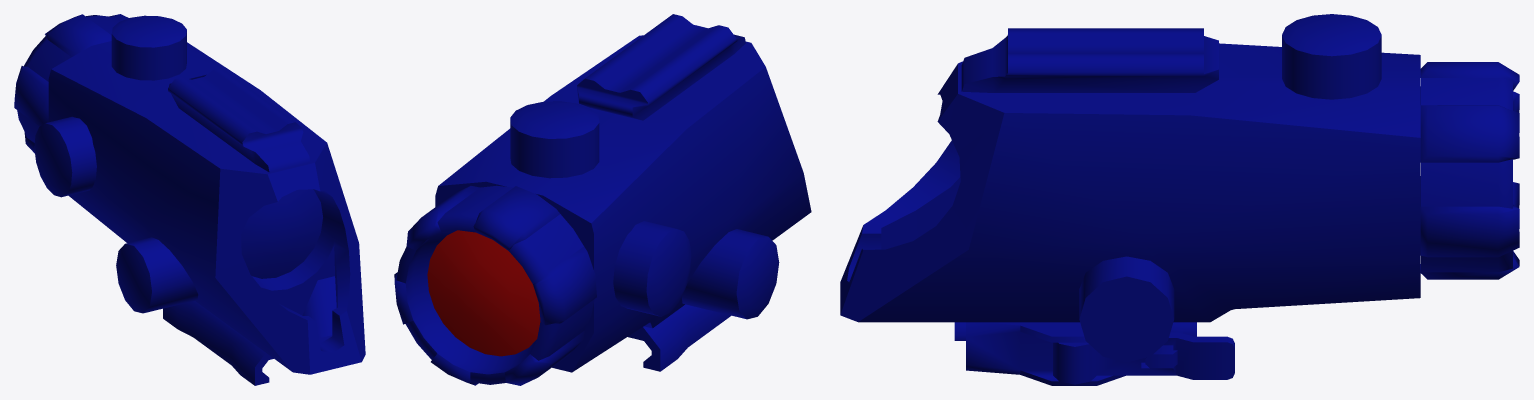
File: SET_SCOPE1_ARMGDMRSMGSG_BRAVO4.FBX
3 views of the same model, side by side, from view 1: azimuth 30°, elevation 25°; view 2: azimuth 150°, elevation 25°; view 3: azimuth 270°, elevation 25° (orthographic). The views are drawn at different scales.
Visible parts, largest first — view 1: SET_SCOPE1_ARMGDMRSMGSG_BRAVO4_LOD0, SET_SCOPE1_ARMGDMRSMGSG_BRAVO4_AIM; view 2: SET_SCOPE1_ARMGDMRSMGSG_BRAVO4_LOD0, SET_SCOPE1_ARMGDMRSMGSG_BRAVO4_AIM; view 3: SET_SCOPE1_ARMGDMRSMGSG_BRAVO4_LOD0, SET_SCOPE1_ARMGDMRSMGSG_BRAVO4_AIM.
Boxes of the visible parts, left/top/right/bottom form: SET_SCOPE1_ARMGDMRSMGSG_BRAVO4_LOD0: left=22, top=14, right=365, bottom=385; SET_SCOPE1_ARMGDMRSMGSG_BRAVO4_AIM: left=14, top=14, right=264, bottom=385; SET_SCOPE1_ARMGDMRSMGSG_BRAVO4_LOD0: left=394, top=14, right=811, bottom=384; SET_SCOPE1_ARMGDMRSMGSG_BRAVO4_AIM: left=394, top=120, right=762, bottom=385; SET_SCOPE1_ARMGDMRSMGSG_BRAVO4_LOD0: left=840, top=14, right=1519, bottom=385; SET_SCOPE1_ARMGDMRSMGSG_BRAVO4_AIM: left=986, top=14, right=1519, bottom=368.
Size of what is drawn, in the model's own units: 0.0701 by 0.082 by 0.157.
